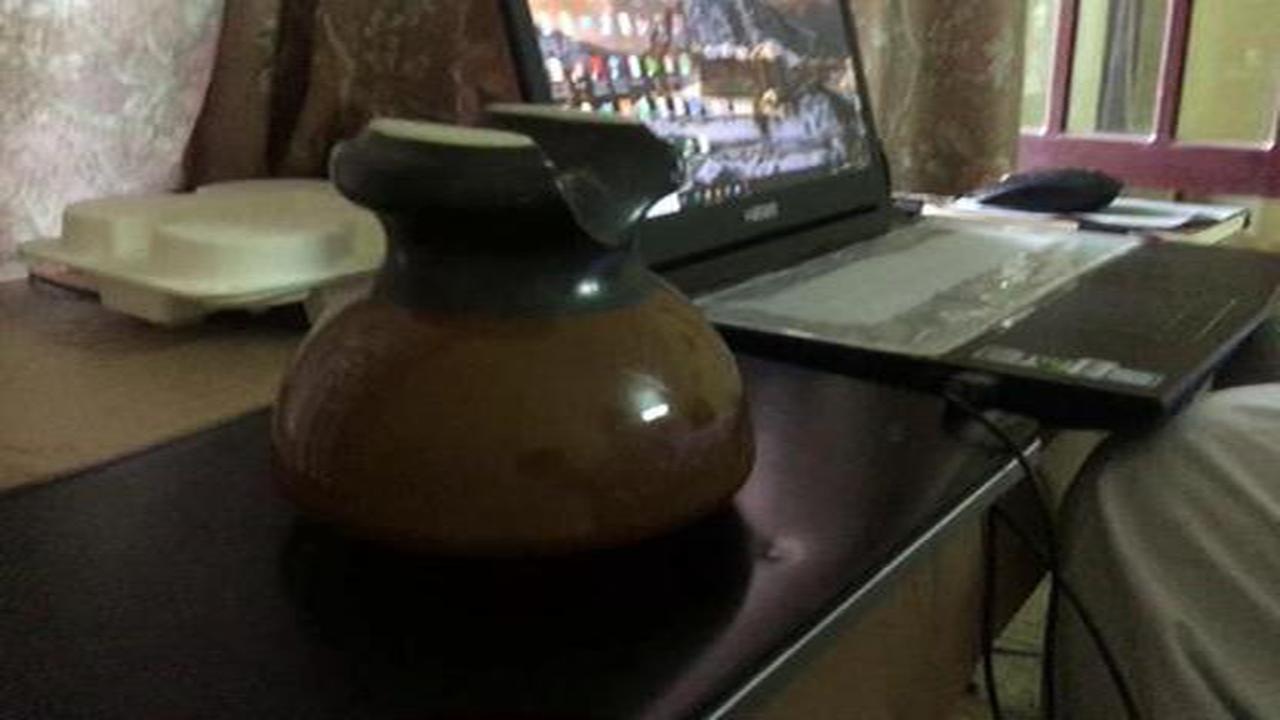insulator_pin: (241, 91, 785, 572)
